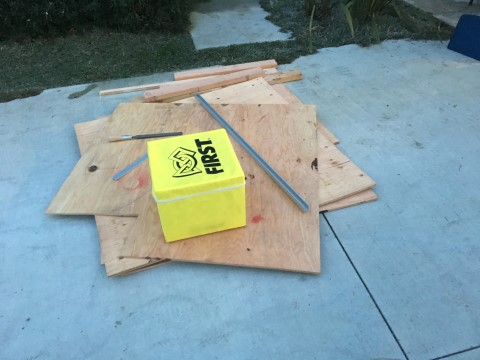cube: (146, 128, 246, 243)
